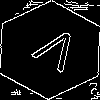V: (25, 25, 84, 81)
